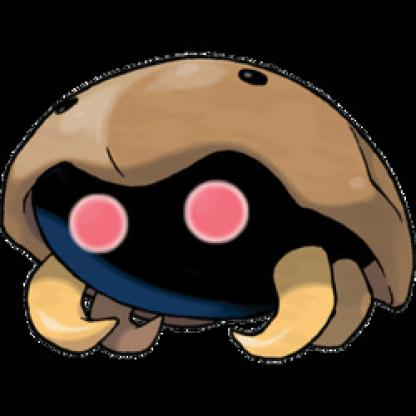Kabuto: (1, 59, 416, 378)
